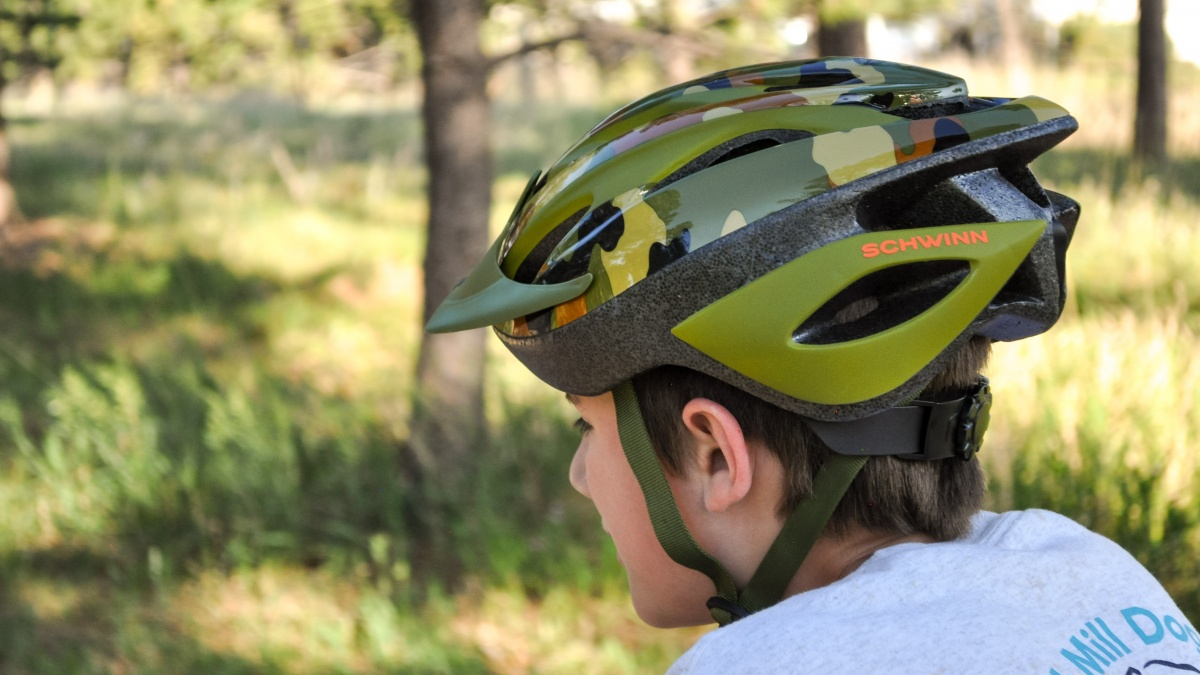helmet: (424, 56, 1081, 630)
